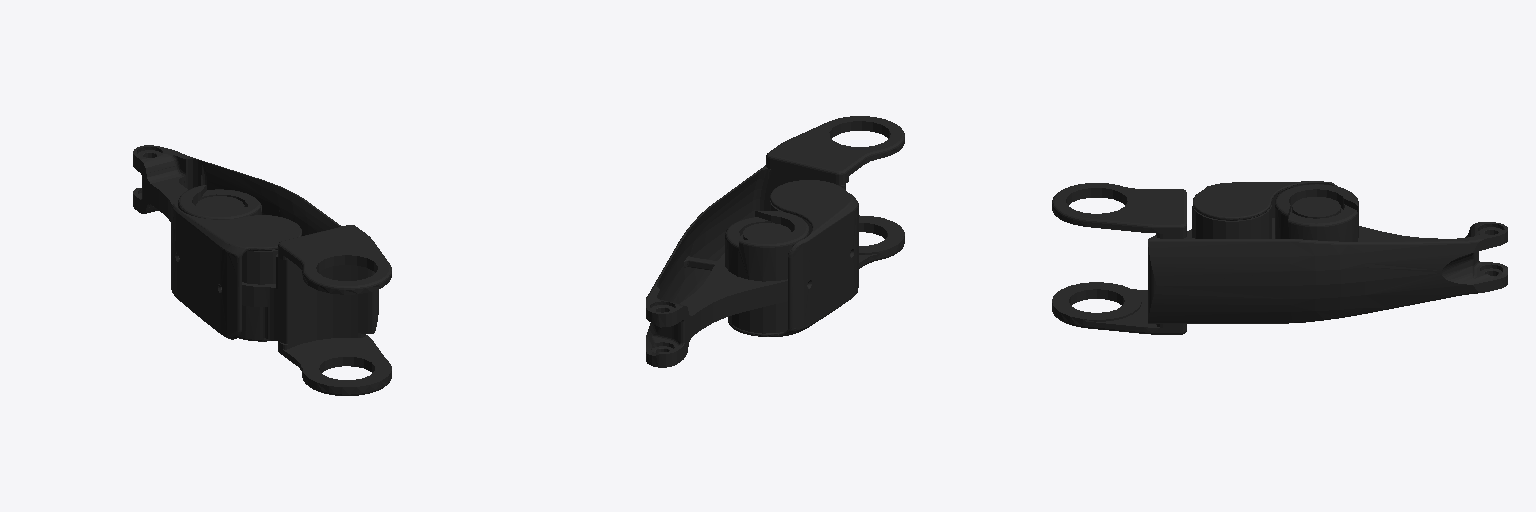
File: Shank_right.obj
The picture shows the model from 3 angles: view 1: azimuth 30°, elevation 25°; view 2: azimuth 150°, elevation 25°; view 3: azimuth 270°, elevation 25°; orthographic projection.
Parts seen in each view (by area): view 1: Shank_right; view 2: Shank_right; view 3: Shank_right.
Part boxes in pixels (x1,y1,x2,y2): Shank_right: (133, 145, 391, 395); Shank_right: (646, 116, 904, 367); Shank_right: (1052, 181, 1507, 334).
Bounding box in the file's own units: 0.0988 × 0.086 × 0.3239.